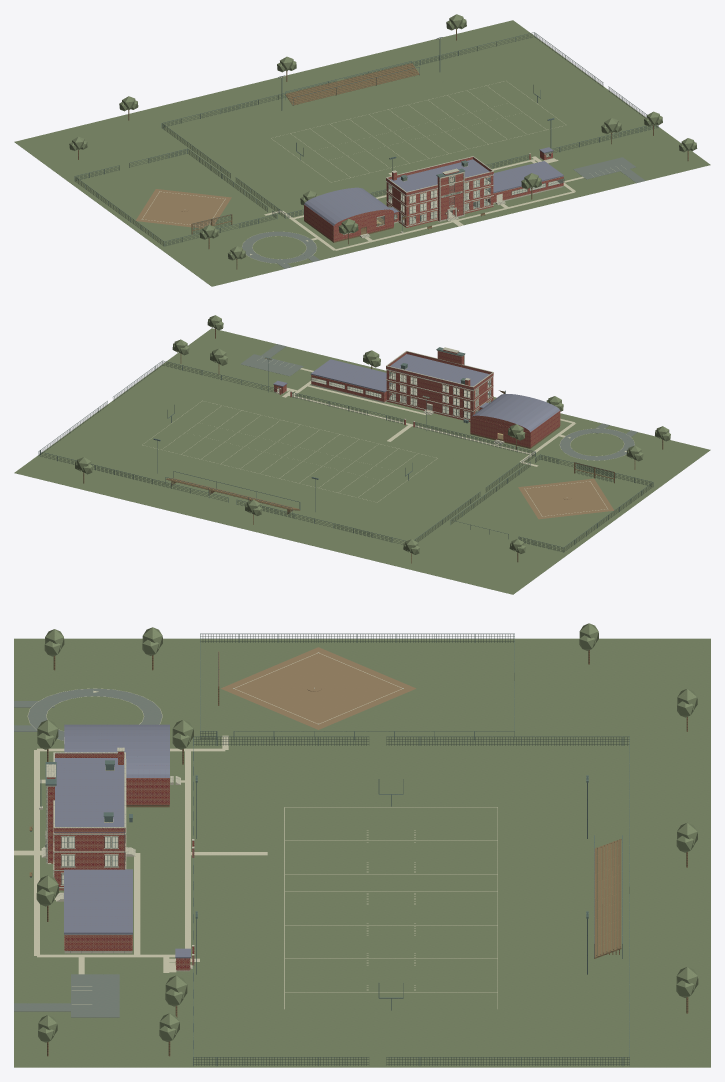
File: lincoln-high-school-1955.glb
3 views of the same model, one above another, from view 1: azimuth 30°, elevation 25°; view 2: azimuth 150°, elevation 25°; view 3: azimuth 270°, elevation 25° (orthographic). The views are drawn at different scales.
Visible parts, largest first — view 1: lot__ground_grass, football_field__ground_grass, school_1925__wall_brick, baseball_diamond__ground_sport, field_fence__glass_windows, school_1925__wall_stone, gymnasium__roof_membrane, wood_bleachers__detail_wood, gymnasium__wall_brick, baseball_fence__glass_windows, campus_paths__ground_sport, school_1925__roof_membrane (+8 smaller); view 2: lot__ground_grass, football_field__ground_grass, school_1925__wall_brick, field_fence__glass_windows, baseball_diamond__ground_sport, school_1925__wall_stone, gymnasium__roof_membrane, gymnasium__wall_brick, school_1925__roof_membrane, modern_wing__roof_membrane, campus_paths__ground_sport, baseball_fence__glass_windows (+8 smaller); view 3: lot__ground_grass, football_field__ground_grass, baseball_diamond__ground_sport, campus_paths__ground_sport, school_1925__roof_membrane, modern_wing__roof_membrane, field_fence__glass_windows, gymnasium__roof_membrane, school_1925__wall_brick, wood_bleachers__detail_wood, bus_loop__ground_sport, staff_parking__ground_sport (+7 smaller).
Boxes of the visible parts, box(x1,y1,x2,y2) form: lot__ground_grass: box(14, 20, 710, 286); football_field__ground_grass: box(271, 81, 565, 182); school_1925__wall_brick: box(386, 157, 493, 227); baseball_diamond__ground_sport: box(135, 189, 231, 228); field_fence__glass_windows: box(162, 33, 657, 218); school_1925__wall_stone: box(386, 156, 493, 226); gymnasium__roof_membrane: box(304, 187, 391, 225); wood_bleachers__detail_wood: box(285, 63, 419, 105); gymnasium__wall_brick: box(304, 204, 393, 241); baseball_fence__glass_windows: box(75, 149, 276, 246); campus_paths__ground_sport: box(264, 156, 583, 250); school_1925__roof_membrane: box(386, 159, 493, 195); lot__ground_grass: box(14, 328, 710, 594); football_field__ground_grass: box(143, 401, 437, 502); school_1925__wall_brick: box(386, 350, 493, 421); field_fence__glass_windows: box(39, 361, 535, 544); baseball_diamond__ground_sport: box(518, 478, 614, 519); school_1925__wall_stone: box(386, 347, 493, 420); gymnasium__roof_membrane: box(472, 394, 559, 432); gymnasium__wall_brick: box(470, 411, 560, 447); school_1925__roof_membrane: box(386, 354, 491, 389); modern_wing__roof_membrane: box(310, 359, 391, 392); campus_paths__ground_sport: box(282, 368, 575, 466); baseball_fence__glass_windows: box(451, 455, 652, 551); lot__ground_grass: box(14, 638, 710, 1067); football_field__ground_grass: box(285, 807, 497, 1009); baseball_diamond__ground_sport: box(221, 647, 415, 729); campus_paths__ground_sport: box(14, 735, 267, 974); school_1925__roof_membrane: box(54, 758, 125, 832); modern_wing__roof_membrane: box(64, 869, 132, 934); field_fence__glass_windows: box(194, 737, 629, 1065); gymnasium__roof_membrane: box(64, 724, 169, 777); school_1925__wall_brick: box(47, 751, 125, 890); wood_bleachers__detail_wood: box(594, 839, 621, 958); bus_loop__ground_sport: box(14, 688, 162, 740); staff_parking__ground_sport: box(71, 974, 119, 1017).
Size of what is drawn, in the model's own units: 233 by 20.87 by 160.
12 materials, 12 textured.
